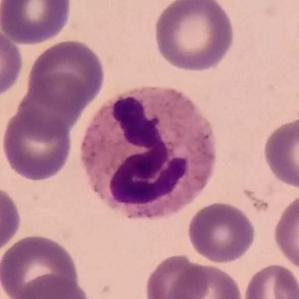Neutrophil: (76, 78, 230, 233)
RBC: (150, 0, 236, 73), (25, 37, 107, 111), (0, 107, 75, 183), (0, 231, 82, 299), (185, 199, 258, 265), (17, 70, 89, 130), (0, 0, 74, 46), (142, 252, 210, 299), (260, 114, 299, 192), (167, 261, 245, 299), (271, 191, 299, 273), (240, 261, 299, 299), (11, 273, 92, 299), (0, 24, 26, 101), (0, 183, 23, 257)
